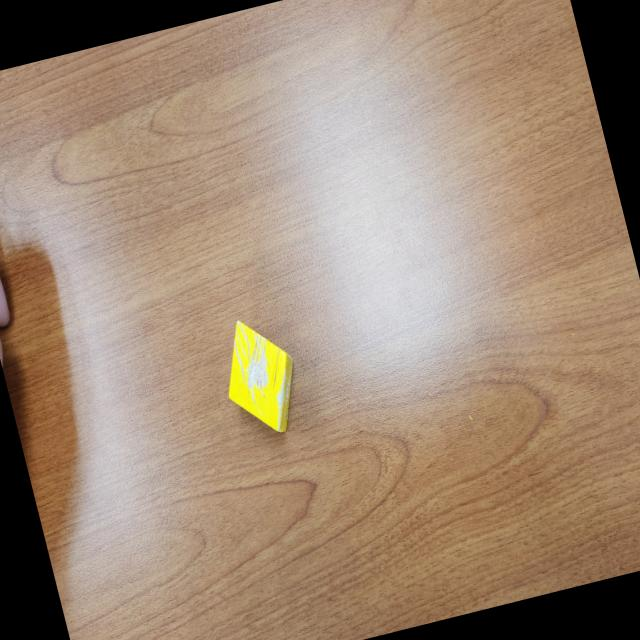broken: (210, 310, 310, 446)
